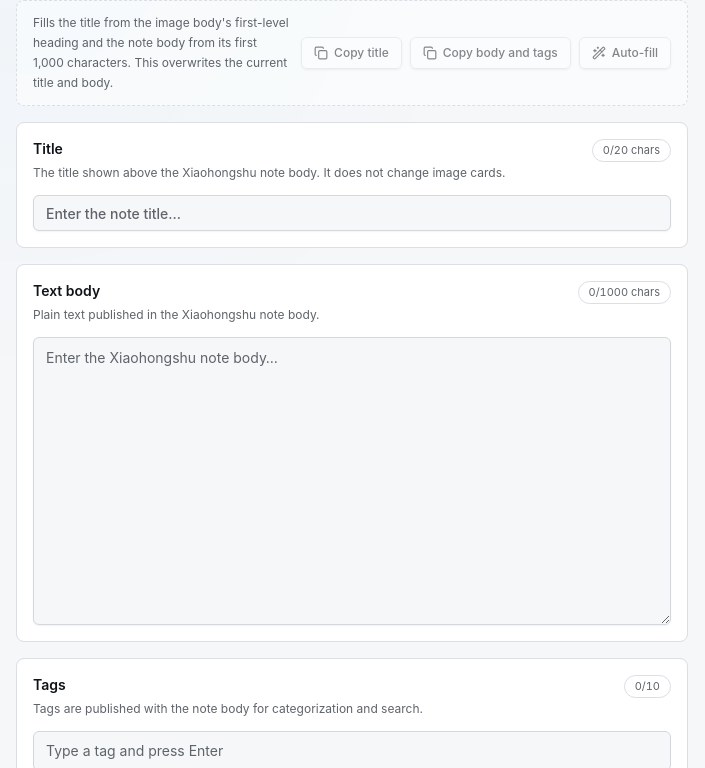
Scenario: 小红书内容编辑器 › 编辑标题、正文并增删标签
Type "内容标题" into the field labelled "Enter the note title…" at (352, 213), box [33,195,671,231]
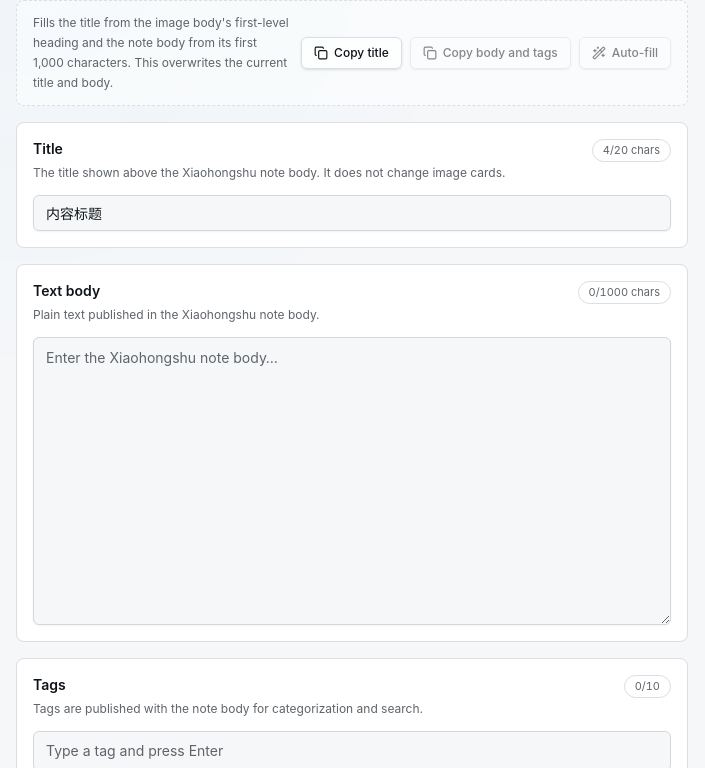
Type "发布正文" into the text box labelled "Enter the Xiaohongshu note body…" at (352, 481), box [33,337,671,625]
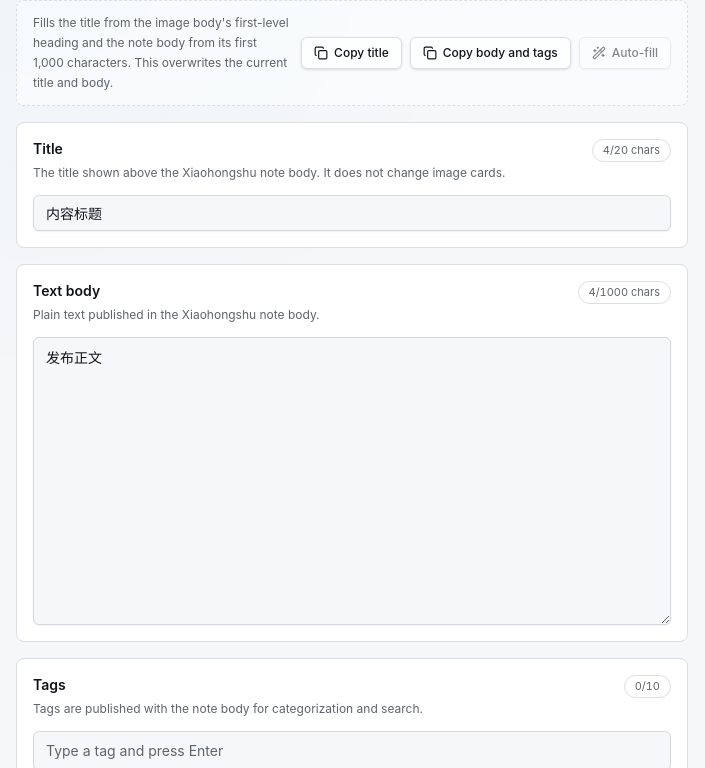
Type "AI" into the field labelled "Type a tag and press Enter" at (352, 751), box [46,741,658,761]
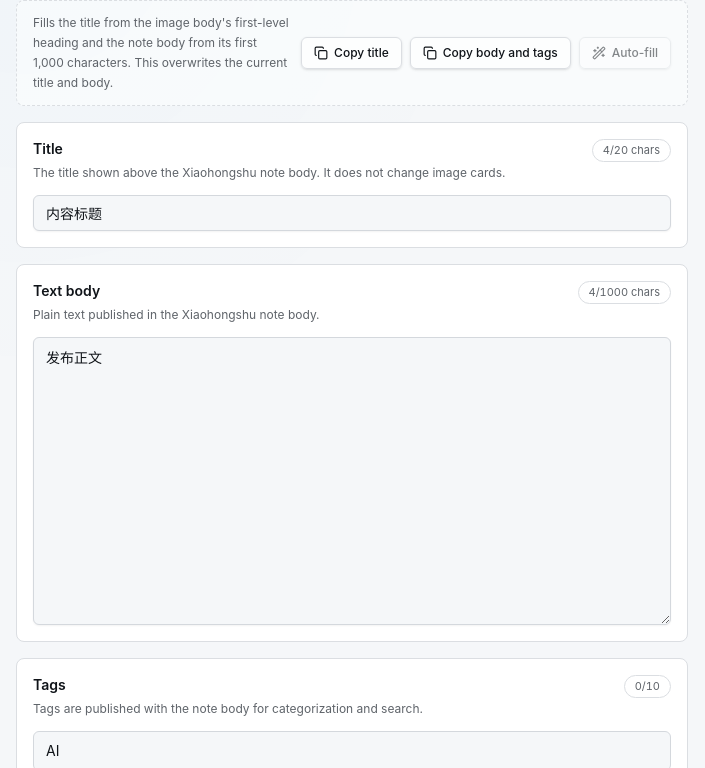
Press Enter in the field named "Tags", box [46,741,658,761]
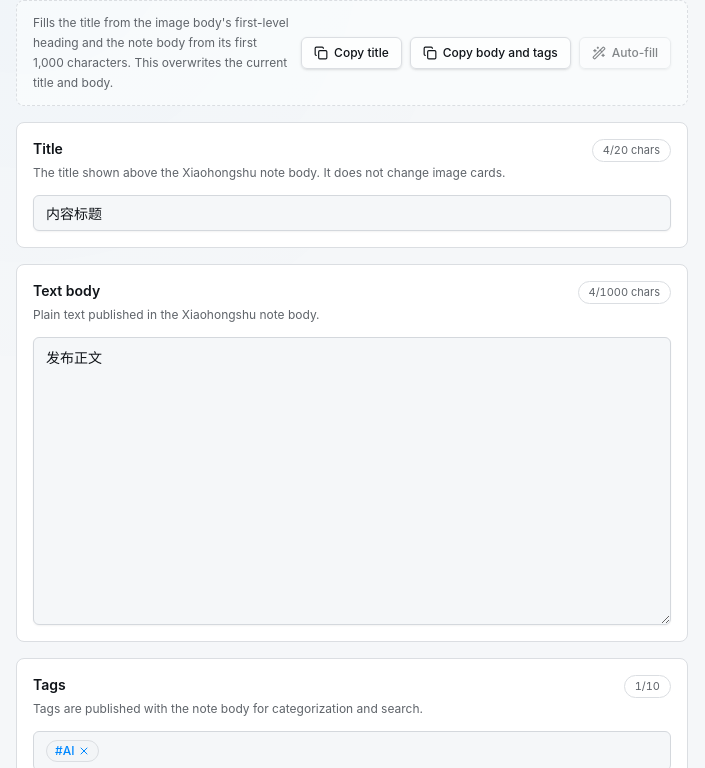
expect the button "#AI" is shown: met
Click the button "#AI" at (73, 751), box [46,740,100,762]
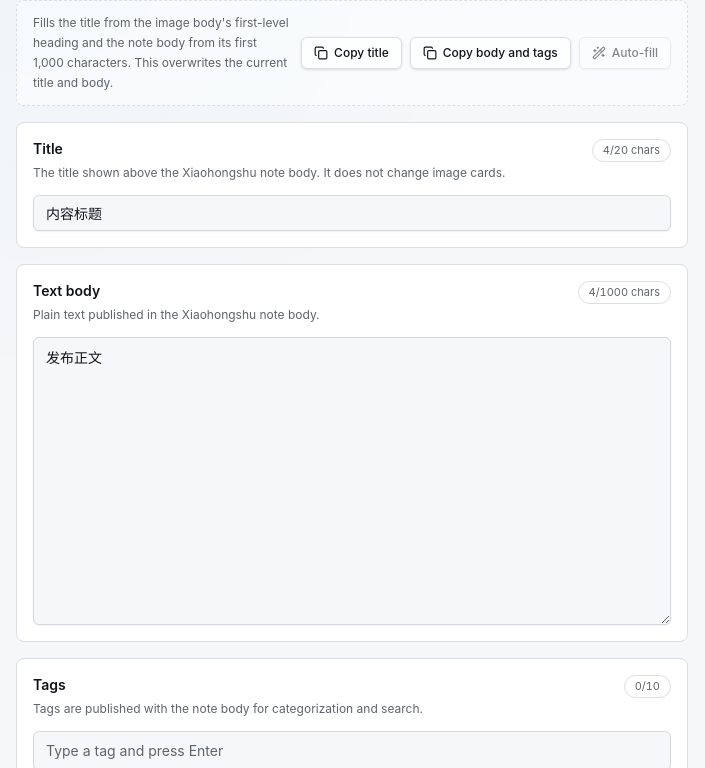
expect the button "#AI" is gone: met
